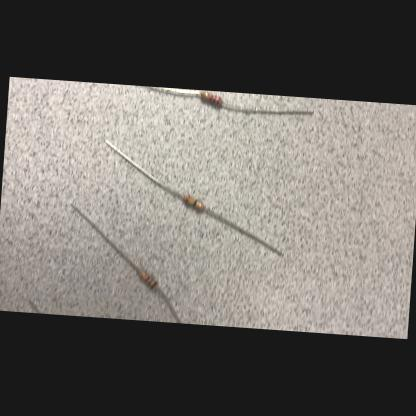resistor: (136, 270, 158, 290), (181, 195, 204, 211), (200, 92, 222, 106)
wire: (64, 202, 141, 274), (100, 139, 185, 198), (200, 206, 285, 257), (221, 100, 314, 118), (155, 286, 183, 323), (147, 87, 199, 98)
